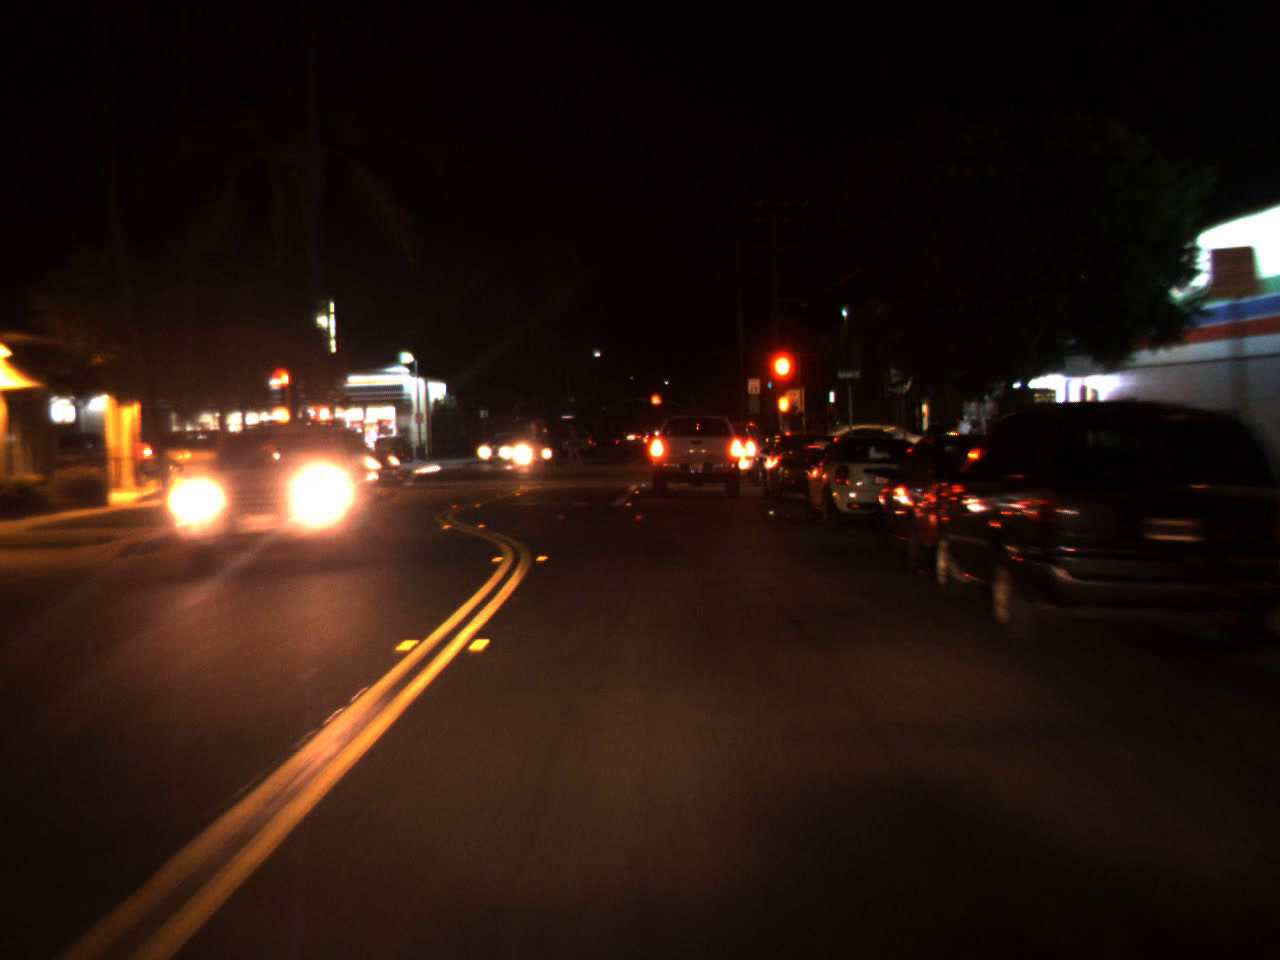stop: (763, 345, 800, 419), (267, 364, 294, 415), (651, 396, 658, 409)
